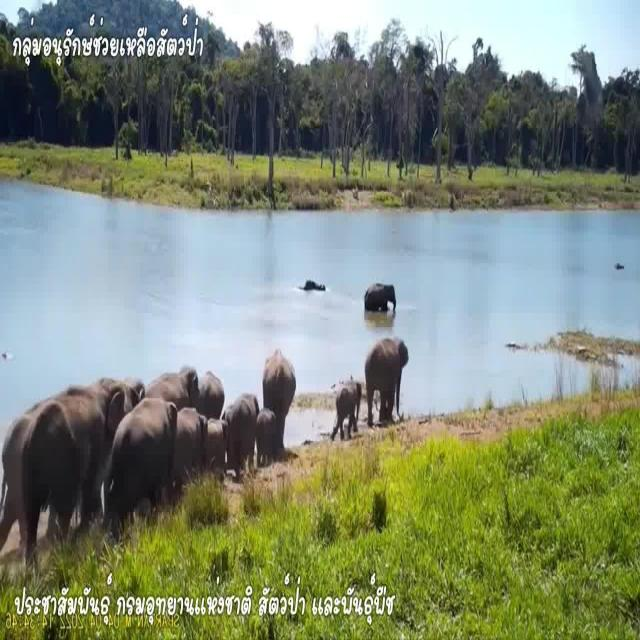Elephant: (12, 391, 102, 514), (110, 403, 179, 496), (364, 332, 406, 420), (225, 384, 258, 457), (96, 379, 146, 425), (175, 408, 208, 473), (263, 346, 293, 414), (152, 366, 200, 407), (333, 377, 362, 435), (196, 369, 226, 418), (362, 279, 398, 315), (205, 417, 231, 461), (256, 408, 276, 453)
